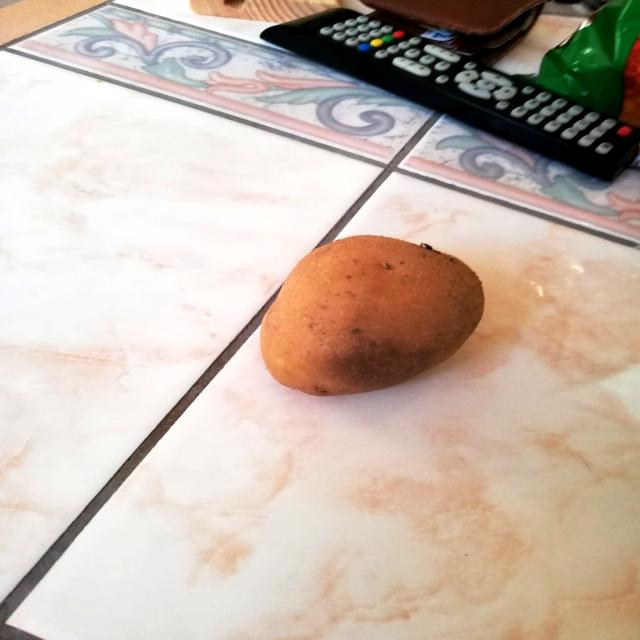potato: (249, 230, 490, 396)
